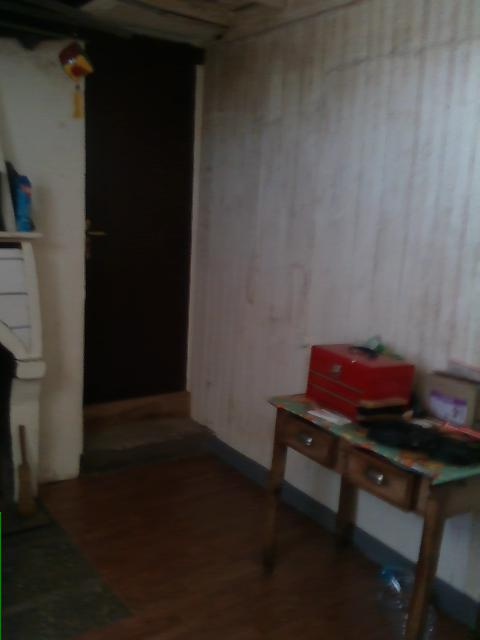door: (80, 33, 199, 409)
